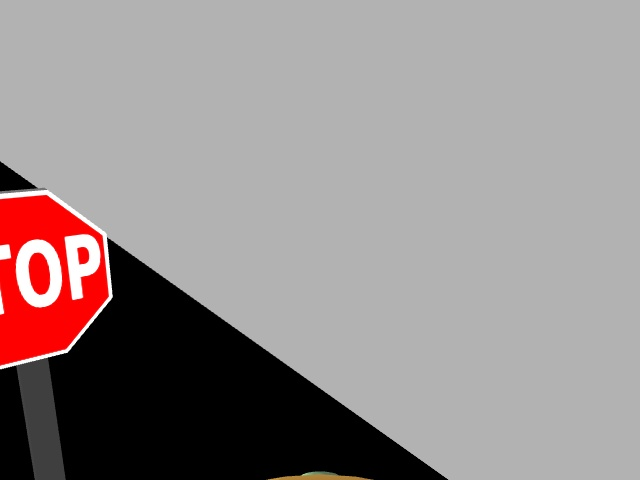Stop: (1, 179, 118, 383)
